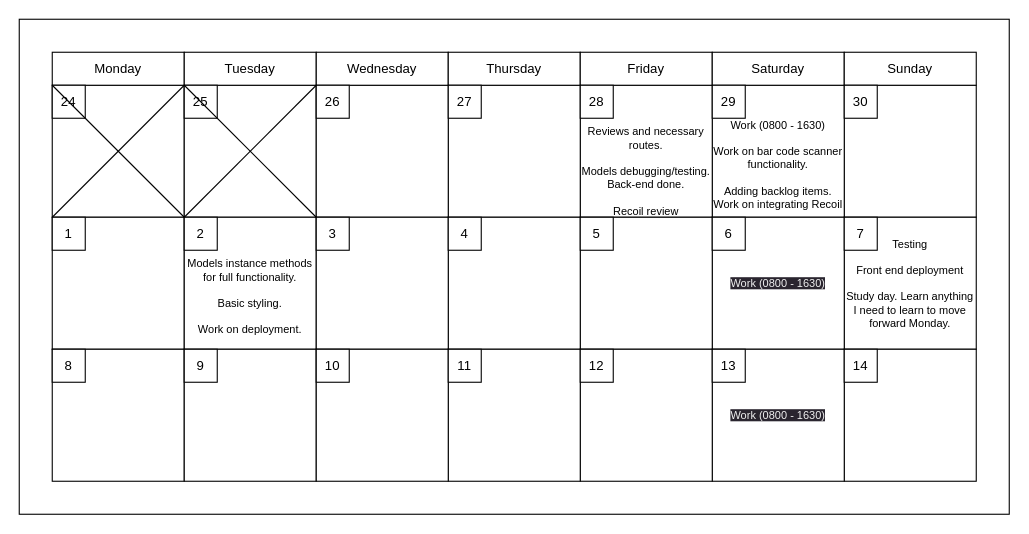
This 1029x534 diagram has some shape labels left out. Each missing label, with the box of its shape:
Back-end restful routes. Backlog/Backlog List components. Details Component: (447, 84, 580, 217)
Beautifying front-end. Barcode Scanner Route bug-fixing: (447, 216, 580, 349)
Deployment and styling. Create icons and custom artworks.: (579, 216, 712, 349)
Front end deployment. Any additional custom artwork.: (51, 348, 184, 481)
Front end login components. Change/delete password. Bug fixing. Seek help.: (51, 216, 184, 349)
Graduate/ find job.: (579, 348, 712, 481)
Landing screen. Search/Results components. Models built w/ relationships: (315, 84, 448, 217)
MVP complete. MVP presentation. Study day.: (315, 216, 448, 349)
PROJECT PRESENTATION: (447, 348, 580, 481)
Styling Testing Update readme: (315, 348, 448, 481)
Styling. Prep presentation. Final testing and bug fixing.: (183, 348, 316, 481)
Testing. Login/logout/create account routes. Study/Catch-up day.: (843, 84, 976, 217)
Work out proof of concept. Create project pitch.: (183, 84, 316, 217)
